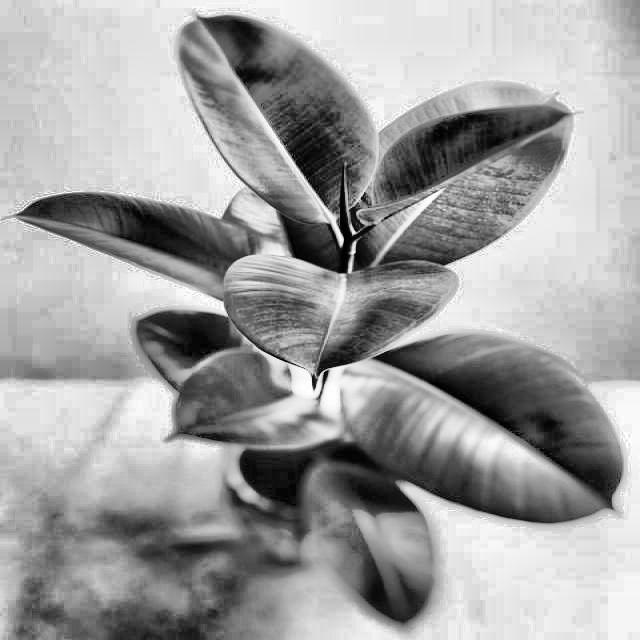plants: (32, 9, 632, 608)
